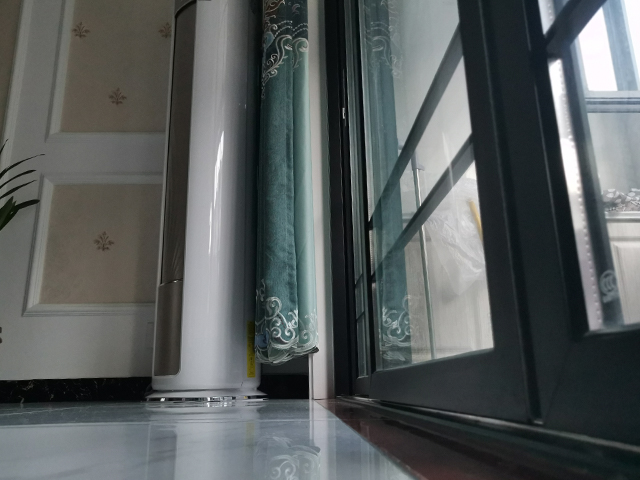curtain: (250, 1, 323, 367)
